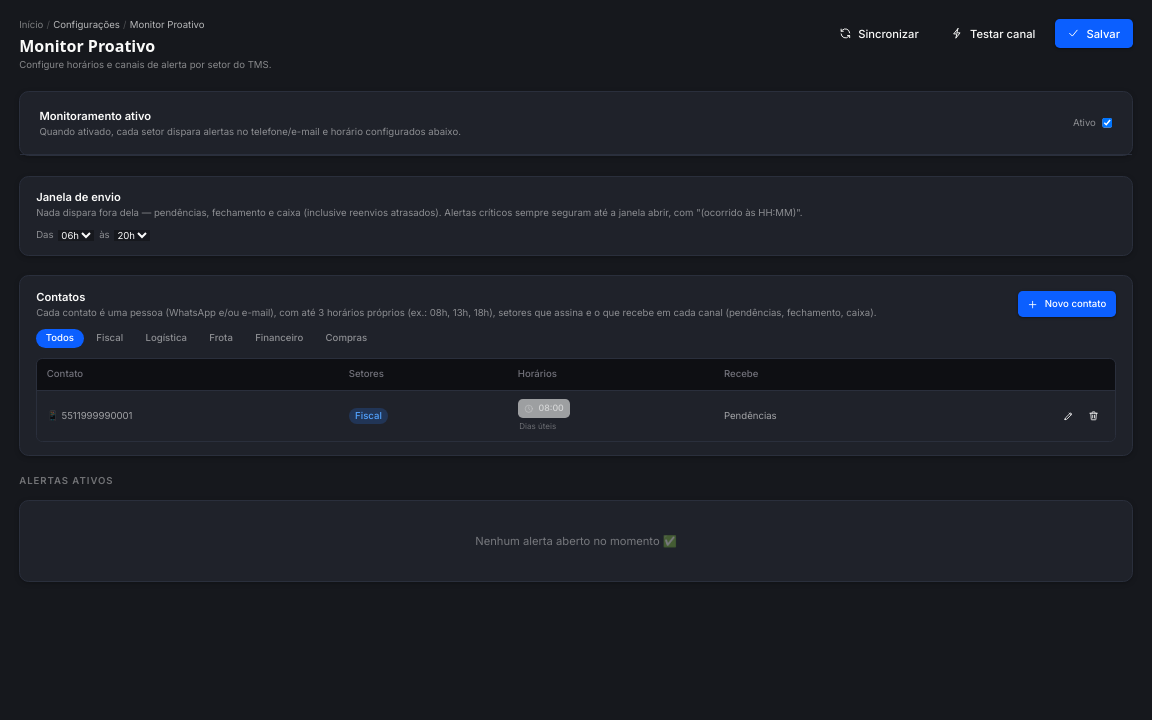
Test case: MonitorConfigPage — T9 Contato unificado (wizard 3 passos) › remover contato pede confirmação e some da lista
Expected: the text "Contatos" is shown, [36,290,85,304]
Click the button named "Remover 5511999990001" at coordinates (1094, 416), box [1083,405,1105,427]
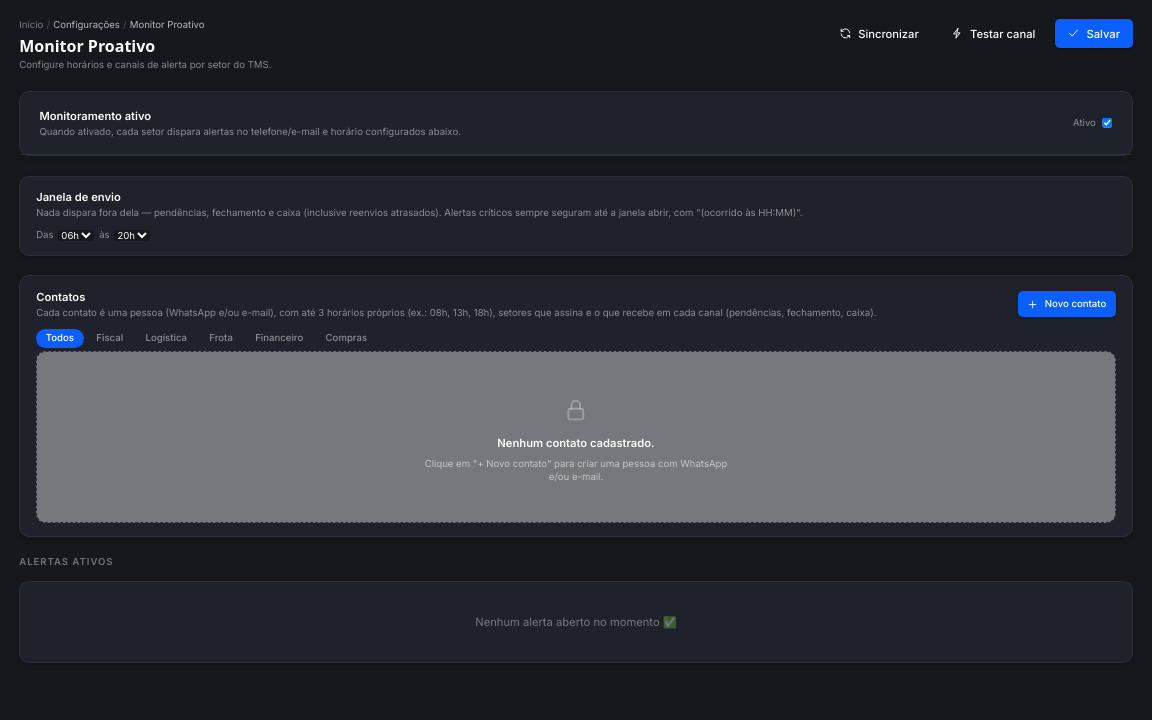
Expected: the text "5511999990001" is gone
Expected: the heading "Nenhum contato cadastrado." is shown, [497,436,655,452]
